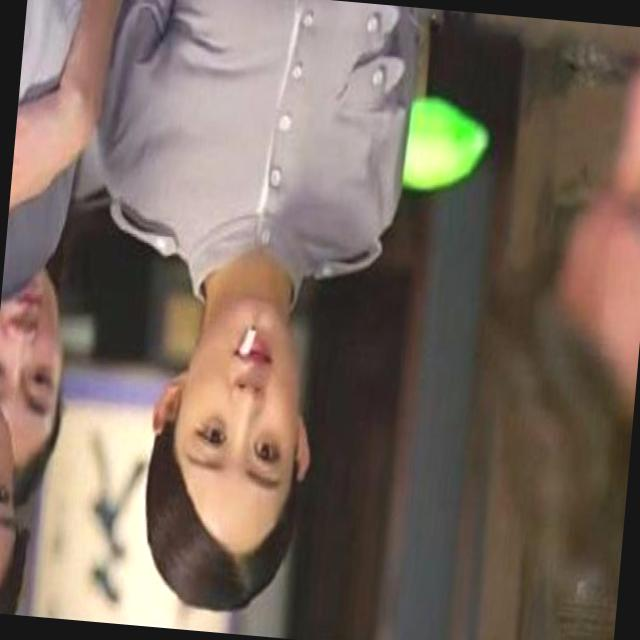smoke: (223, 322, 255, 368)
